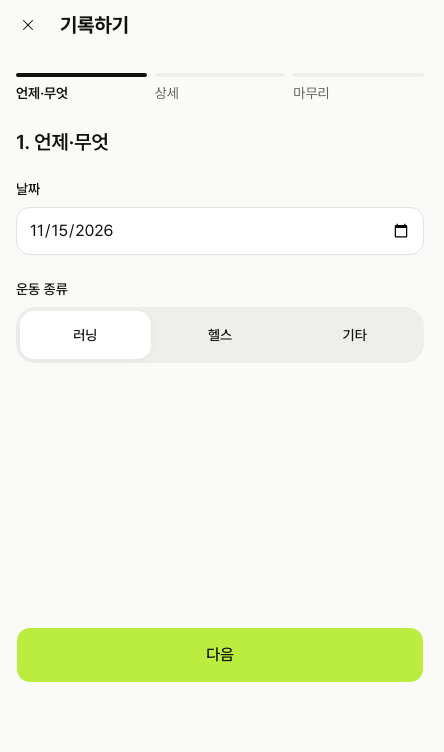
Scenario: WorkoutForm 사진 › 사진을 올릴 수 없는 곳(체험)에서는 추가 버튼을 막고 안내한다
Click the button "기타" at (355, 335), box [289,311,420,359]
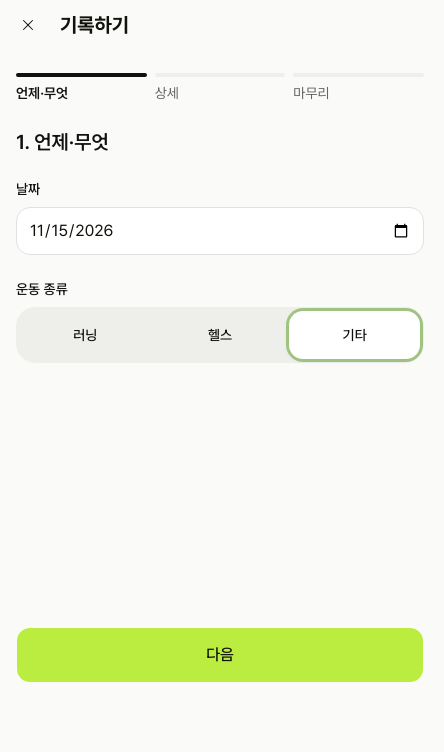
Click the button "다음" at (220, 655), box [16,627,424,683]
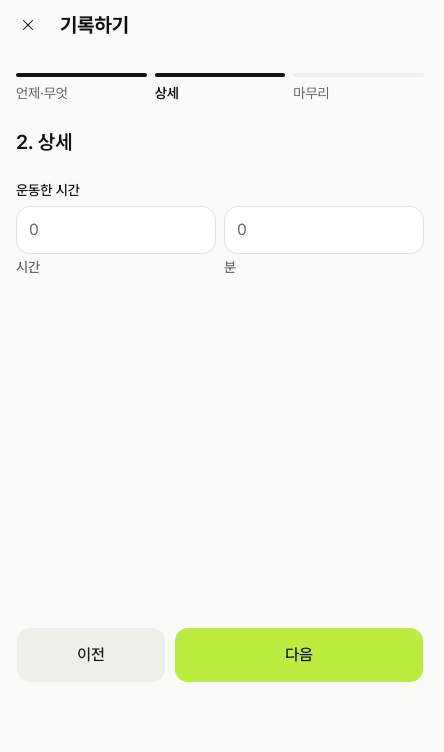
Type "30" into the field labelled "분" at (324, 230), box [224,206,424,254]
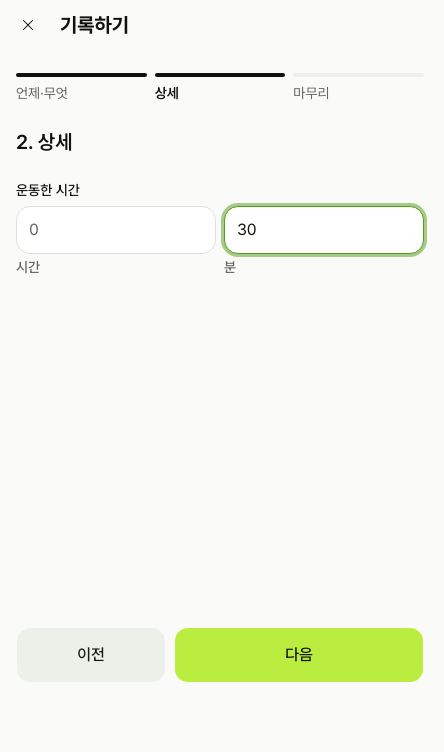
Click the button "다음" at (299, 655), box [174,627,424,683]
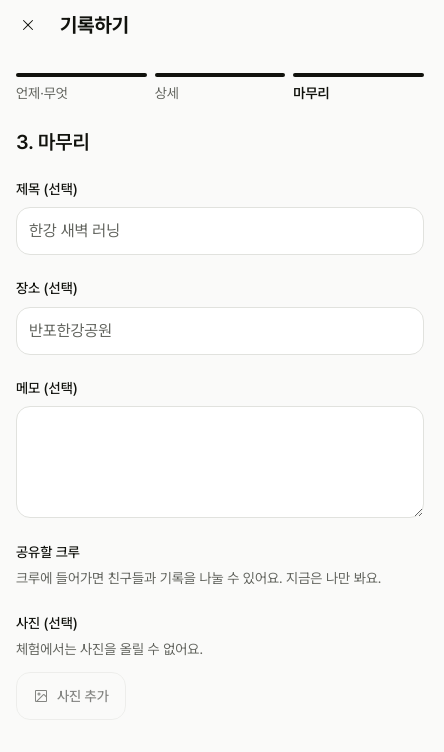
expect the text "체험에서는 사진을 올릴 수 없어요." is shown: met, box [16,641,203,657]
expect the button "사진 추가" is disabled: met, box [16,672,126,720]
